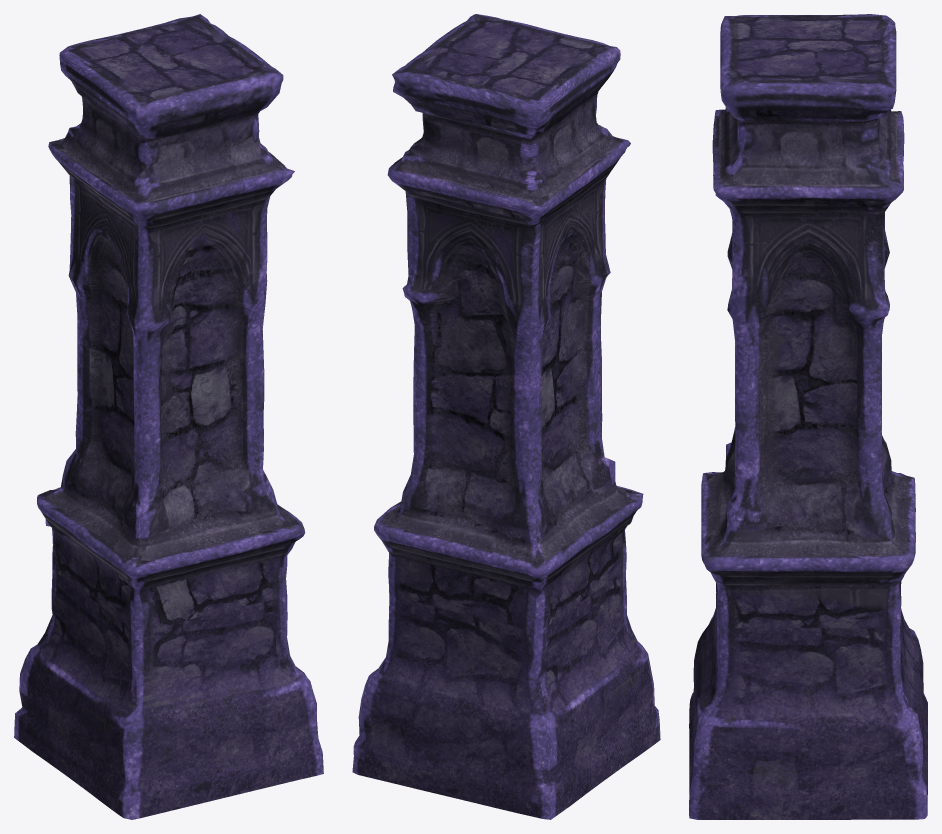
The model's file is Pillar1.fbx.
3 views of the same model, side by side, from view 1: azimuth 30°, elevation 25°; view 2: azimuth 150°, elevation 25°; view 3: azimuth 270°, elevation 25° (orthographic). The views are drawn at different scales.
Visible parts, largest first — view 1: Pillar1; view 2: Pillar1; view 3: Pillar1.
Boxes of the visible parts, x1,y1,x2,y2 form: Pillar1: (14, 14, 323, 819); Pillar1: (352, 14, 660, 819); Pillar1: (689, 14, 927, 819).
Bounding box in the file's own units: 2.25 × 7.48 × 2.25.
1 material, 1 textured.
